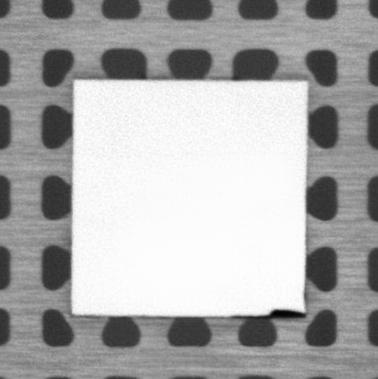DIE_BROKEN: (266, 306, 305, 319)
